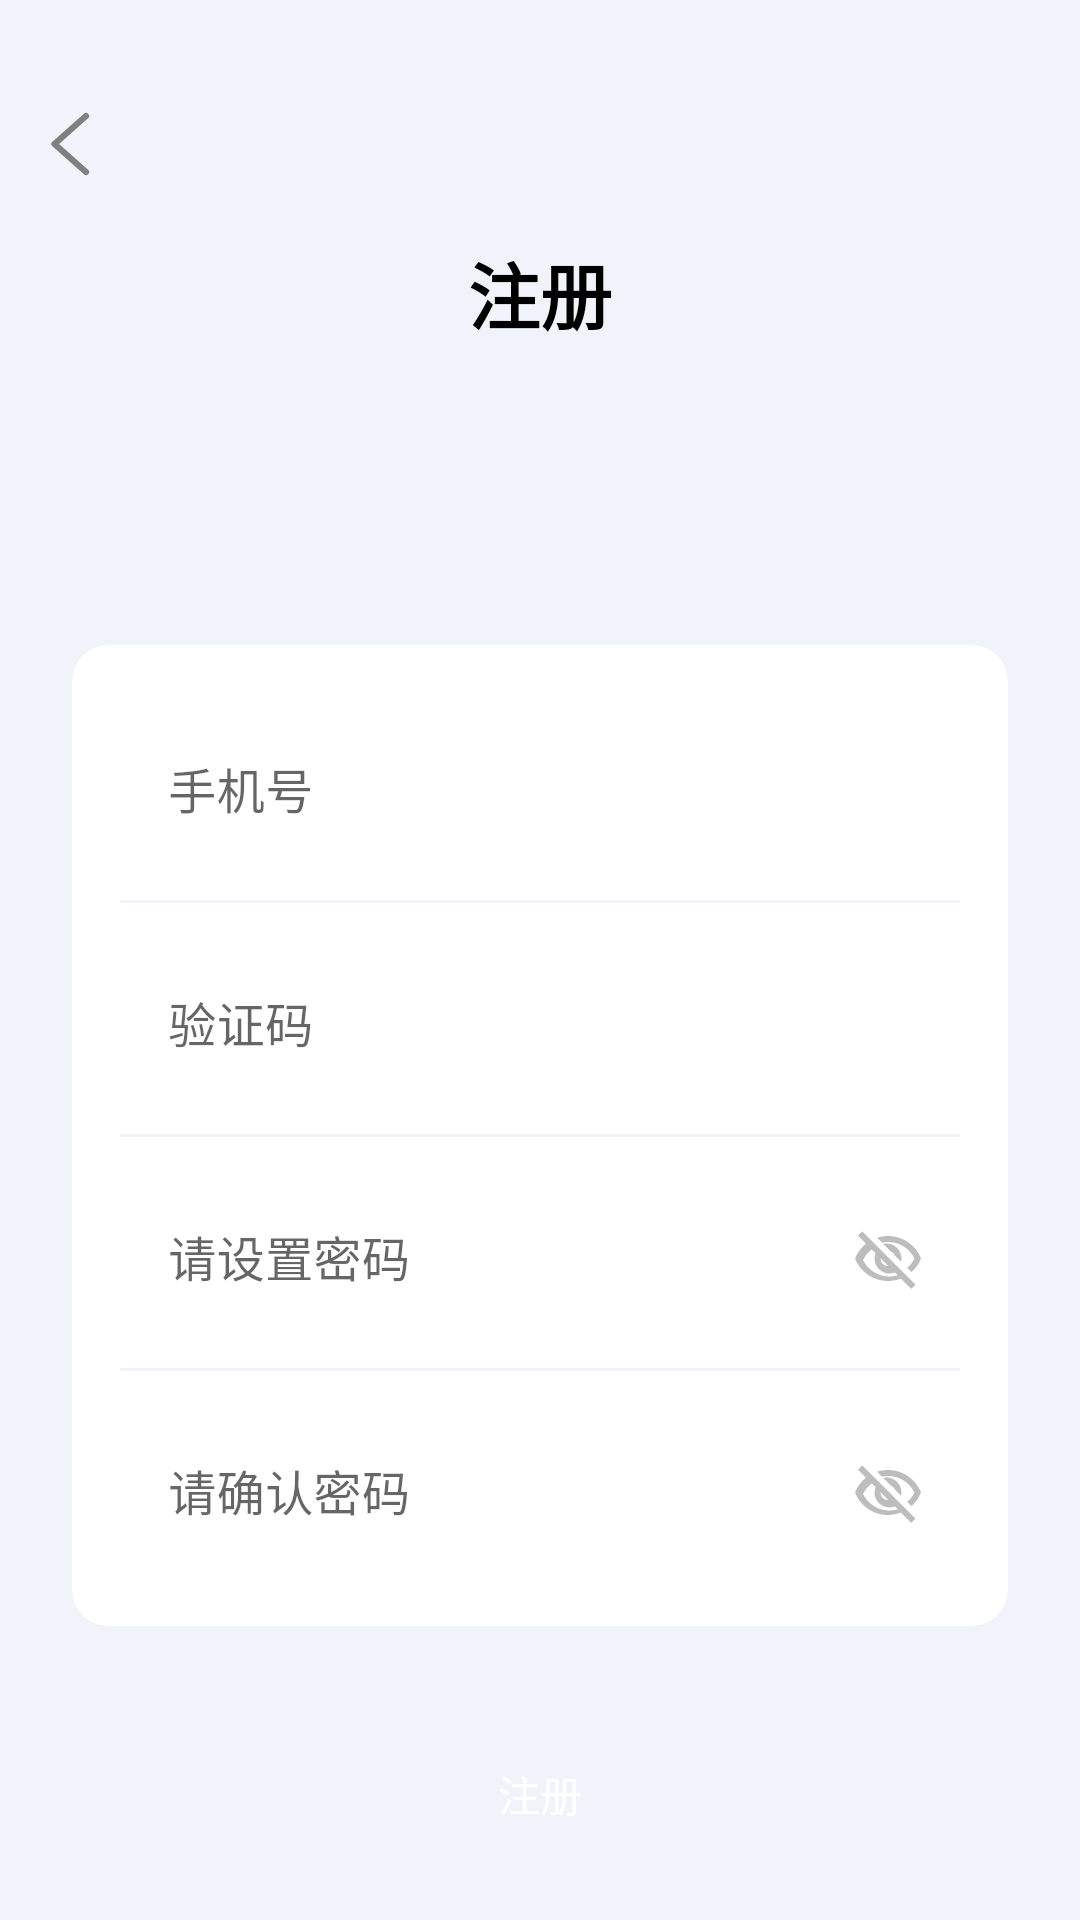

Locate icon controls on the screen. Image size 1080w x 1920h, boxes as (x1, y1, x2, y2).
返回: (51, 113, 90, 175)
